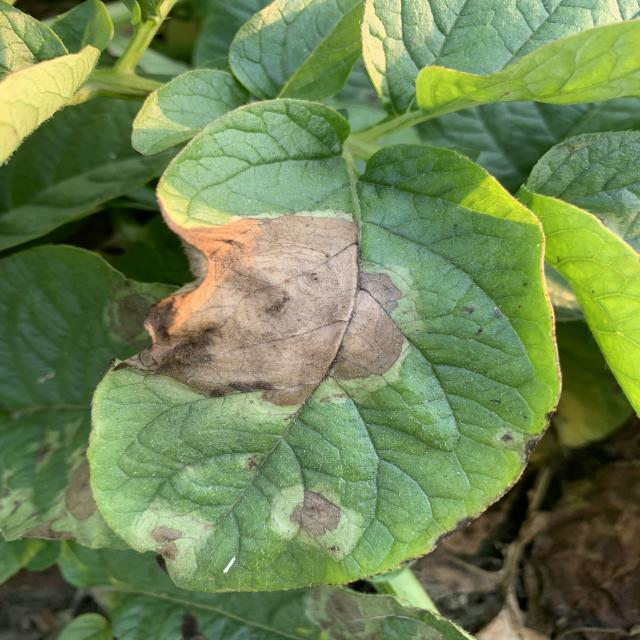lateblight: (147, 209, 405, 406), (290, 490, 342, 536), (150, 525, 183, 560)
